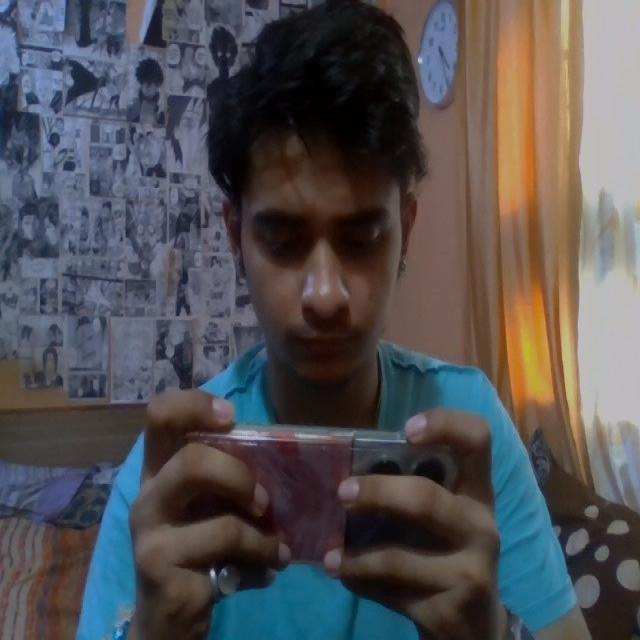phone: (190, 431, 460, 571)
using-phone: (114, 9, 598, 640)
